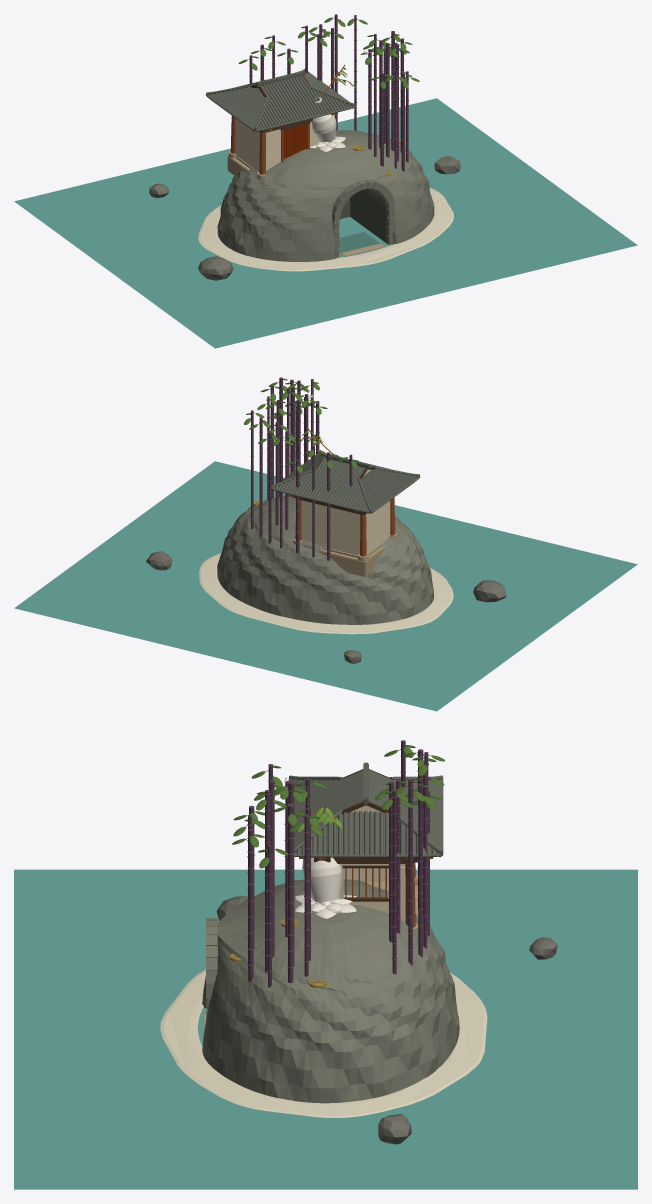
The model's file is xy_nanhai.glb.
3 renders of one model, top to bottom at view 1: azimuth 30°, elevation 25°; view 2: azimuth 150°, elevation 25°; view 3: azimuth 270°, elevation 25°, orthographic. The views are drawn at different scales.
Visible parts, largest first — view 1: xy_nanhai; view 2: xy_nanhai; view 3: xy_nanhai.
Boxes of the visible parts, left/top/right/bottom form: xy_nanhai: left=14, top=14, right=637, bottom=348; xy_nanhai: left=14, top=377, right=637, bottom=711; xy_nanhai: left=14, top=740, right=637, bottom=1189.
Bounding box in the file's own units: 22 × 9.34 × 18.12.
